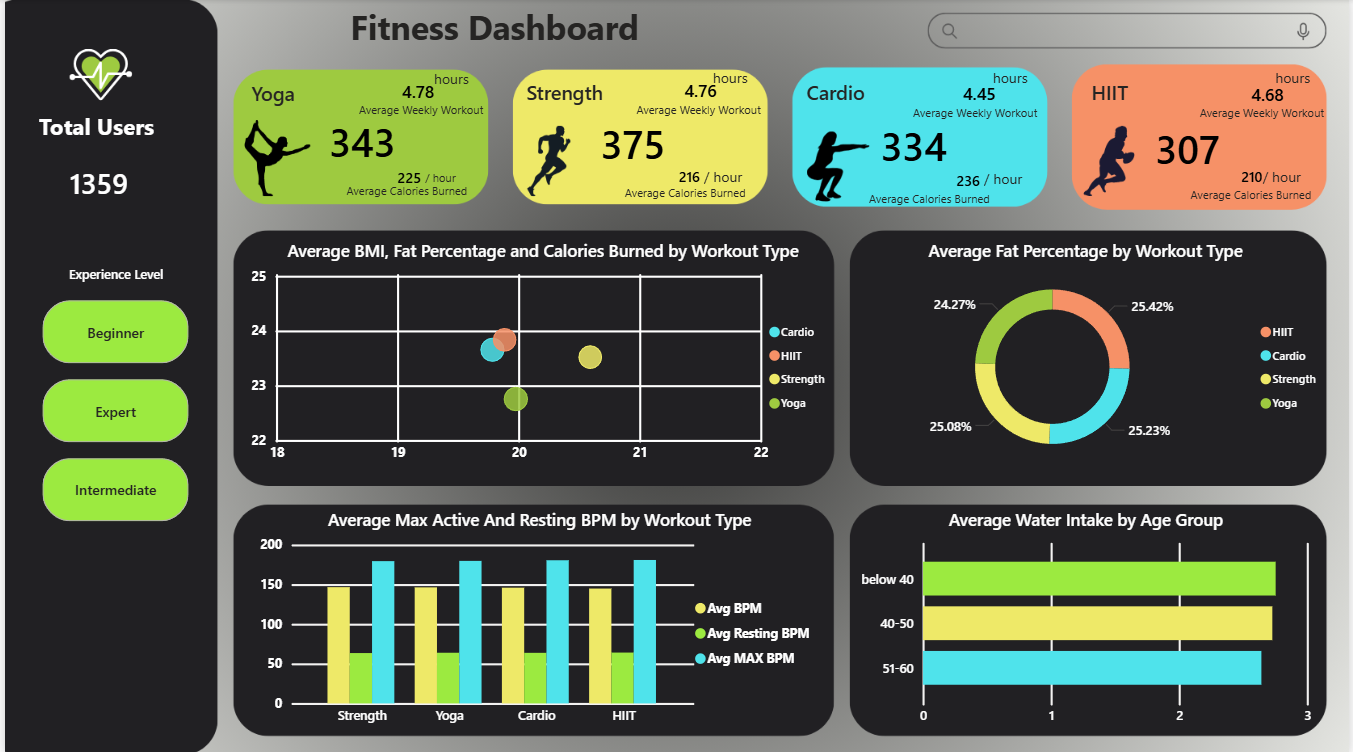

Layout of this report page (visuals, bound fields, positions):
{"tool":"powerbi","page":{"name":" Fitness Dashboard","canvas":[1280,720],"ordinal":0},"visuals":[{"type":"textbox","box":[323.6,0,295.7,67.9],"z":0},{"type":"card","fields":{"Values":["gym_members_exercise_tracking_s.Total_Users"]},"box":[35.4,148.5,107.6,55.8],"z":1000},{"type":"card","fields":{"Values":["gym_members_exercise_tracking_s.Total_Yoga_Workout_Users"]},"box":[302.7,112.7,76.4,45.5],"z":2000},{"type":"card","fields":{"Values":["gym_members_exercise_tracking_s.Total_Strength_Workout_Users"]},"box":[555.5,115.5,84.5,45.5],"z":3000},{"type":"card","fields":{"Values":["gym_members_exercise_tracking_s.Total_Cardio_Workout_Users"]},"box":[828.8,116.9,74.4,45.6],"z":4000},{"type":"card","fields":{"Values":["gym_members_exercise_tracking_s.Total_HIIT_Workout_Users"]},"box":[1072.7,120,108.2,45.5],"z":5000},{"type":"card","fields":{"Values":["gym_members_exercise_tracking_s.Yoga_Avg_Cal_Per_Hours"]},"box":[364.4,158.1,41.9,26.9],"z":6000},{"type":"card","fields":{"Values":["gym_members_exercise_tracking_s.Strength_Avg_Cal_Per_Hours"]},"box":[625,150,53.8,44.4],"z":7000},{"type":"card","fields":{"Values":["gym_members_exercise_tracking_s.Cardio_Avg_Cal_Per_Hours"]},"box":[854.4,151.9,125.6,45.6],"z":8000},{"type":"card","fields":{"Values":["gym_members_exercise_tracking_s.HIIT_Avg_Cal_Per_Hours"]},"box":[1116.4,140,141.8,61.8],"z":9000},{"type":"card","fields":{"Values":["gym_members_exercise_tracking_s.Average_Weekly_Workout_Hours(yoga)"]},"box":[365,76.6,56.2,28.8],"z":10000},{"type":"card","fields":{"Values":["gym_members_exercise_tracking_s.Average_Weekly_Workout_Hours(Strength)"]},"box":[1170,66.4,64.5,52.7],"z":11000},{"type":"card","fields":{"Values":["gym_members_exercise_tracking_s.Average_Weekly_Workout_Hours(Cardio)"]},"box":[894.4,66.9,68.1,51.9],"z":12000},{"type":"card","fields":{"Values":["gym_members_exercise_tracking_s.Average_Weekly_Workout_Hours(HIIT)"]},"box":[630,64.4,65.6,51.2],"z":13000},{"type":"textbox","box":[27.2,100.8,123.9,42.2],"z":14000},{"type":"textbox","box":[230.2,72.2,80.4,46.3],"z":15000},{"type":"textbox","box":[491.4,71.4,97.1,37.1],"z":16000},{"type":"textbox","box":[758.1,71.2,70.6,40.6],"z":17000},{"type":"textbox","box":[1030,71.8,70.9,40.9],"z":18000},{"type":"textbox","box":[403.2,61.4,60.7,40],"z":19000},{"type":"textbox","box":[669.4,61.2,70,40],"z":20000},{"type":"textbox","box":[936.2,60.6,70,40],"z":21000},{"type":"textbox","box":[1204.5,60.9,70,40],"z":22000},{"type":"textbox","box":[395.6,154.4,60.6,30.6],"z":23000},{"type":"textbox","box":[660.6,155,70,40],"z":24000},{"type":"textbox","box":[1193.3,154.4,70,40],"z":25000},{"type":"textbox","box":[927.8,156.7,70,40],"z":26000},{"type":"textbox","box":[323.8,90.6,136.9,28.1],"z":27000},{"type":"textbox","box":[588.1,90.6,136.9,31.2],"z":28000},{"type":"textbox","box":[1100.6,92.9,160.3,40.4],"z":29000},{"type":"textbox","box":[808.8,92.5,180,40],"z":30000},{"type":"textbox","box":[320,167.5,136.2,30],"z":31000},{"type":"textbox","box":[540,169.4,170,31.2],"z":32000},{"type":"textbox","box":[1089.1,171.8,160,40],"z":33000},{"type":"textbox","box":[817.8,174.4,180,40],"z":34000},{"type":"scatterChart","title":"Average BMI, Fat Percentage and Calories Burned by Workout Type","fields":{"X":["Avg(gym_members_exercise_tracking_s.BMI)"],"Y":["Avg(gym_members_exercise_tracking_s.Fat_Percentage)"],"Series":["gym_members_exercise_tracking_s.Workout_Type"],"Size":["Avg(gym_members_exercise_tracking_s.Calories_Burned)"]},"box":[230.2,228.8,565.2,222],"z":35000},{"type":"donutChart","title":"Average Fat Percentage by Workout Type","fields":{"Category":["gym_members_exercise_tracking_s.Workout_Type"],"Y":["Avg(gym_members_exercise_tracking_s.Fat_Percentage)"]},"box":[795.1,228.5,467.8,222],"z":36000},{"type":"clusteredColumnChart","title":"Average Max Active And Resting BPM by Workout Type","fields":{"Category":["gym_members_exercise_tracking_s.Workout_Type"],"Y":["gym_members_exercise_tracking_s.Avg BPM","gym_members_exercise_tracking_s.Avg Resting BPM","gym_members_exercise_tracking_s.Avg MAX BPM"]},"box":[238.3,484.9,542.1,216.6],"z":37000},{"type":"clusteredBarChart","title":"Average Water Intake by Age Group","fields":{"Category":["gym_members_exercise_tracking_s.Age Group"],"Y":["gym_members_exercise_tracking_s.Average_water_intake"]},"box":[809,484.9,439.9,216.6],"z":38000},{"type":"advancedSlicerVisual","fields":{"Values":["gym_members_exercise_tracking_s.Experience_Level"]},"box":[30.5,281.7,149.8,222],"z":39000},{"type":"textbox","box":[30.5,247.6,149.8,34],"z":40000}]}

Visuals, with their boxes in screenshot pixels (x1, y1, x2, y2), scaled from the page's 1280x720 canvas onto the 1353x752 screenshot:
textbox: x1=342 y1=0 x2=655 y2=71
card - gym_members_exercise_tracking_s.Total_Users: x1=37 y1=155 x2=151 y2=213
card - gym_members_exercise_tracking_s.Total_Yoga_Workout_Users: x1=320 y1=118 x2=401 y2=165
card - gym_members_exercise_tracking_s.Total_Strength_Workout_Users: x1=587 y1=121 x2=676 y2=168
card - gym_members_exercise_tracking_s.Total_Cardio_Workout_Users: x1=876 y1=122 x2=955 y2=170
card - gym_members_exercise_tracking_s.Total_HIIT_Workout_Users: x1=1134 y1=125 x2=1248 y2=173
card - gym_members_exercise_tracking_s.Yoga_Avg_Cal_Per_Hours: x1=385 y1=165 x2=429 y2=193
card - gym_members_exercise_tracking_s.Strength_Avg_Cal_Per_Hours: x1=661 y1=157 x2=718 y2=203
card - gym_members_exercise_tracking_s.Cardio_Avg_Cal_Per_Hours: x1=903 y1=159 x2=1036 y2=206
card - gym_members_exercise_tracking_s.HIIT_Avg_Cal_Per_Hours: x1=1180 y1=146 x2=1330 y2=211
card - gym_members_exercise_tracking_s.Average_Weekly_Workout_Hours(yoga): x1=386 y1=80 x2=445 y2=110
card - gym_members_exercise_tracking_s.Average_Weekly_Workout_Hours(Strength): x1=1237 y1=69 x2=1305 y2=124
card - gym_members_exercise_tracking_s.Average_Weekly_Workout_Hours(Cardio): x1=945 y1=70 x2=1017 y2=124
card - gym_members_exercise_tracking_s.Average_Weekly_Workout_Hours(HIIT): x1=666 y1=67 x2=735 y2=121
textbox: x1=29 y1=105 x2=160 y2=149
textbox: x1=243 y1=75 x2=328 y2=124
textbox: x1=519 y1=75 x2=622 y2=113
textbox: x1=801 y1=74 x2=876 y2=117
textbox: x1=1089 y1=75 x2=1164 y2=118
textbox: x1=426 y1=64 x2=490 y2=106
textbox: x1=708 y1=64 x2=782 y2=106
textbox: x1=990 y1=63 x2=1064 y2=105
textbox: x1=1273 y1=64 x2=1347 y2=105
textbox: x1=418 y1=161 x2=482 y2=193
textbox: x1=698 y1=162 x2=772 y2=204
textbox: x1=1261 y1=161 x2=1335 y2=203
textbox: x1=981 y1=164 x2=1055 y2=205
textbox: x1=342 y1=95 x2=487 y2=124
textbox: x1=622 y1=95 x2=766 y2=127
textbox: x1=1163 y1=97 x2=1333 y2=139
textbox: x1=855 y1=97 x2=1045 y2=138
textbox: x1=338 y1=175 x2=482 y2=206
textbox: x1=571 y1=177 x2=750 y2=210
textbox: x1=1151 y1=179 x2=1320 y2=221
textbox: x1=864 y1=182 x2=1055 y2=224
"Average BMI, Fat Percentage and Calories Burned by Workout Type" scatterChart: x1=243 y1=239 x2=841 y2=471
"Average Fat Percentage by Workout Type" donutChart: x1=840 y1=239 x2=1335 y2=471
"Average Max Active And Resting BPM by Workout Type" clusteredColumnChart: x1=252 y1=506 x2=825 y2=733
"Average Water Intake by Age Group" clusteredBarChart: x1=855 y1=506 x2=1320 y2=733
advancedSlicerVisual - gym_members_exercise_tracking_s.Experience_Level: x1=32 y1=294 x2=191 y2=526
textbox: x1=32 y1=259 x2=191 y2=294
